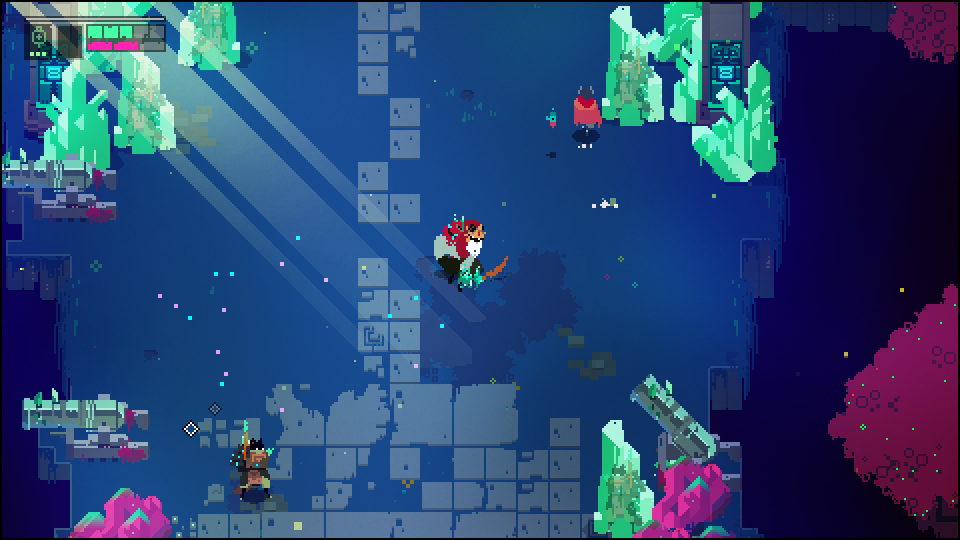hanged_man: (428, 212, 487, 288)
player: (570, 81, 602, 141)
